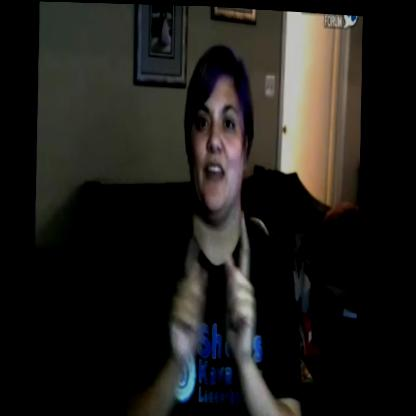NiceToMeetYou: (163, 194, 267, 378)
